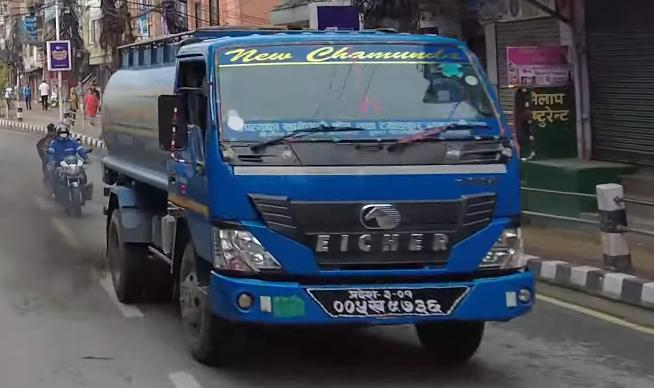bike: (34, 124, 97, 219)
mini_truck: (87, 24, 539, 377)
